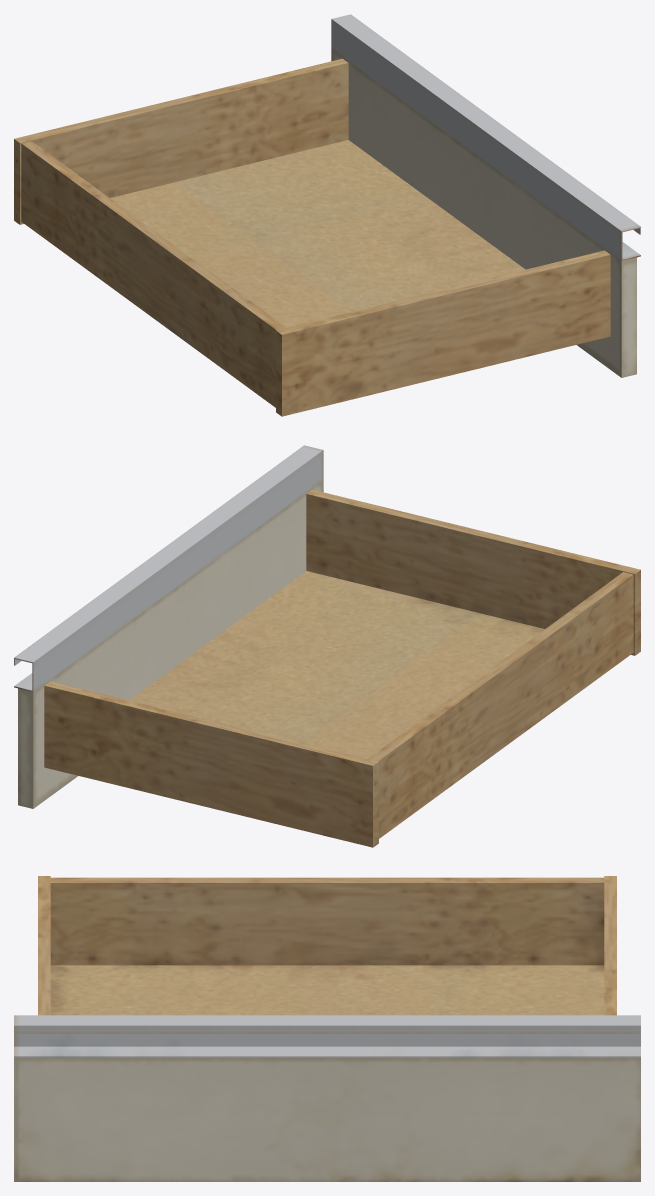
The model's file is FurnitureKicthen02_drawer02.FBX.
3 renders of one model, top to bottom at view 1: azimuth 30°, elevation 25°; view 2: azimuth 150°, elevation 25°; view 3: azimuth 270°, elevation 25°, orthographic. The views are drawn at different scales.
Parts seen in each view (by area): view 1: FurnitureKicthen02_drawer02; view 2: FurnitureKicthen02_drawer02; view 3: FurnitureKicthen02_drawer02.
Part boxes in pixels (x1,y1,x2,y2): FurnitureKicthen02_drawer02: (14, 14, 640, 416); FurnitureKicthen02_drawer02: (14, 445, 640, 847); FurnitureKicthen02_drawer02: (14, 876, 640, 1181).
Size of the model in its own units: 45 by 65 by 18.13.
